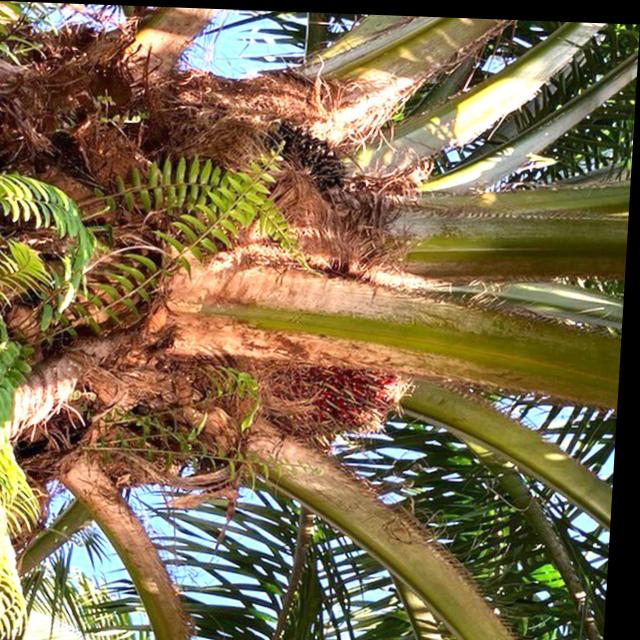ripe: (260, 350, 424, 455)
